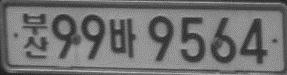4: (239, 17, 267, 64)
5: (179, 15, 205, 63)
6: (210, 16, 236, 63)
9: (79, 13, 106, 60), (147, 15, 174, 61), (50, 13, 76, 59)
바: (108, 18, 137, 58)
부산_V: (21, 13, 48, 59)
